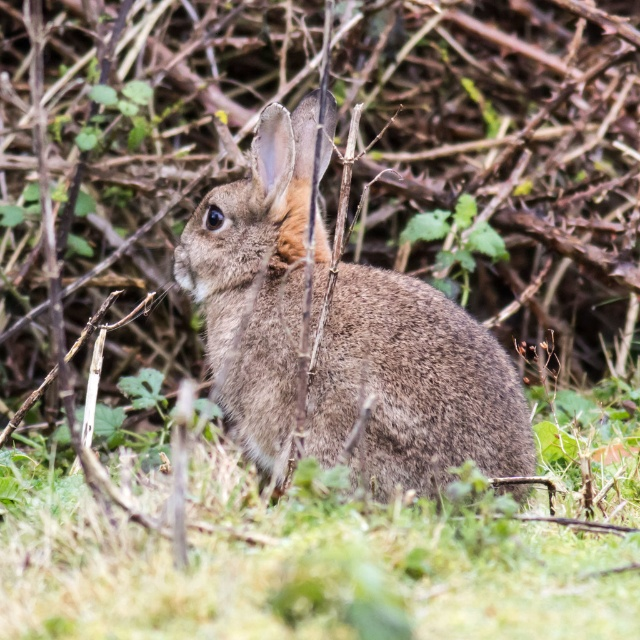Rabbit: (135, 88, 537, 510)
